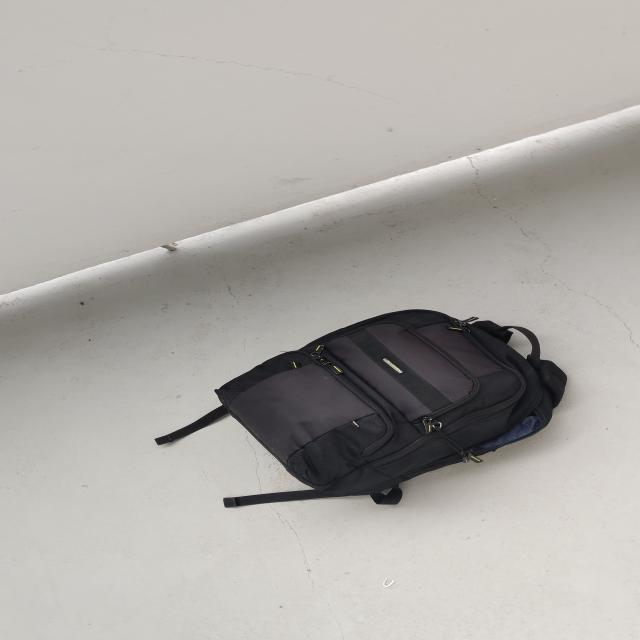backpack: (207, 303, 575, 505)
